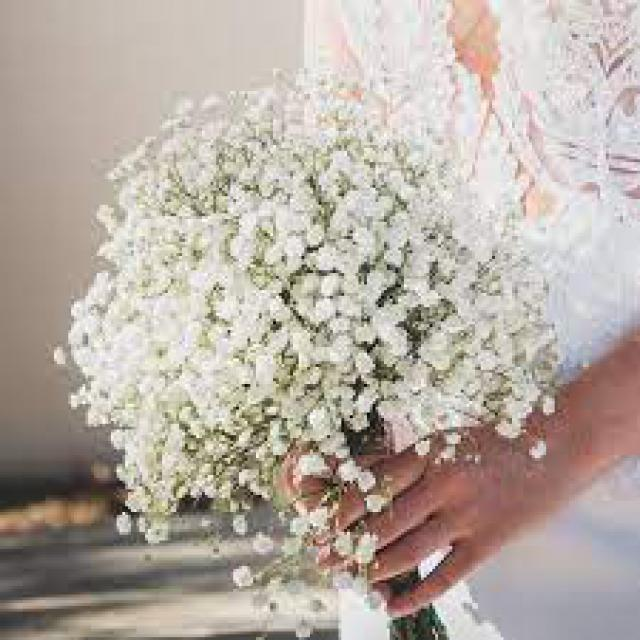gypsophila: (69, 78, 576, 510)
